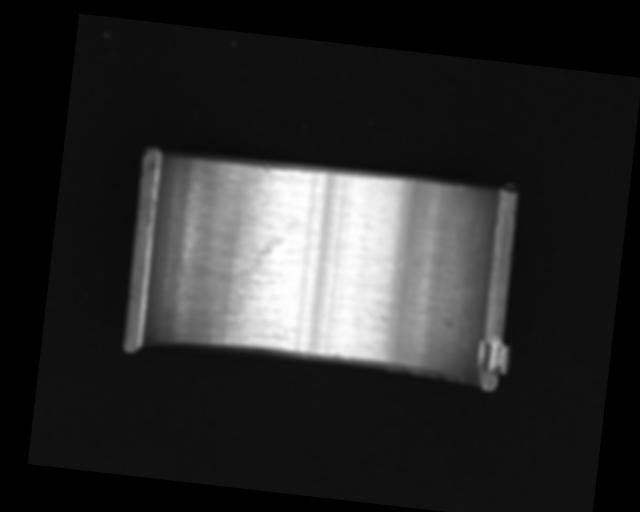bruise: (260, 164, 273, 174)
